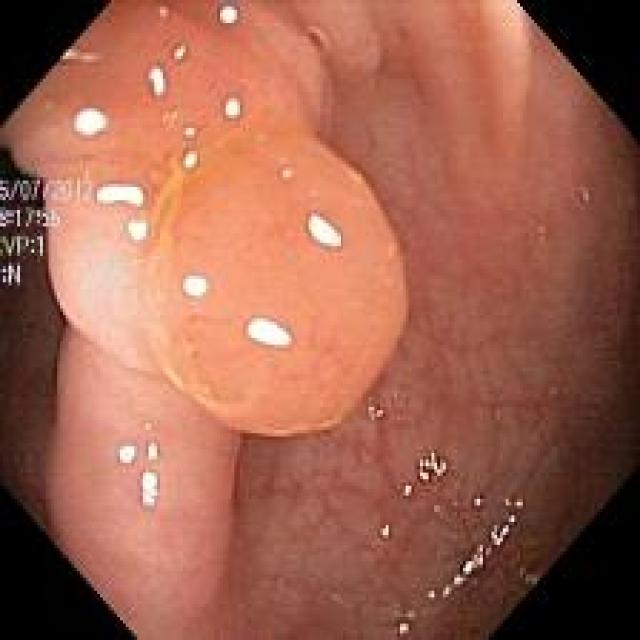Polyps: (148, 131, 405, 436)
